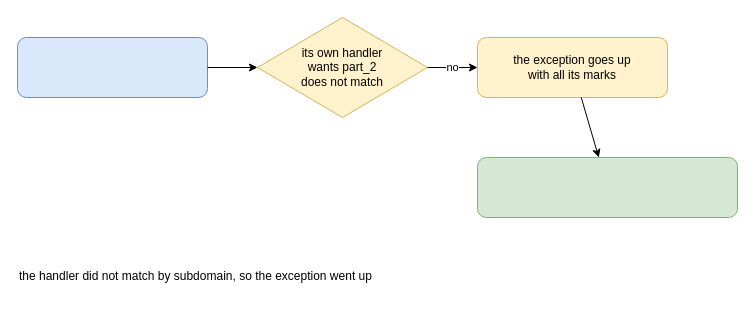
The diagram is 755 pixels wide and 310 high, and some of its shapes have lost their labels. Each missing label, with the centre of its shape:
caller: handler (library_C, part_3) matches: (607,187)
function_lib_C_part_3() throw: library_C + part_3: (112,67)
